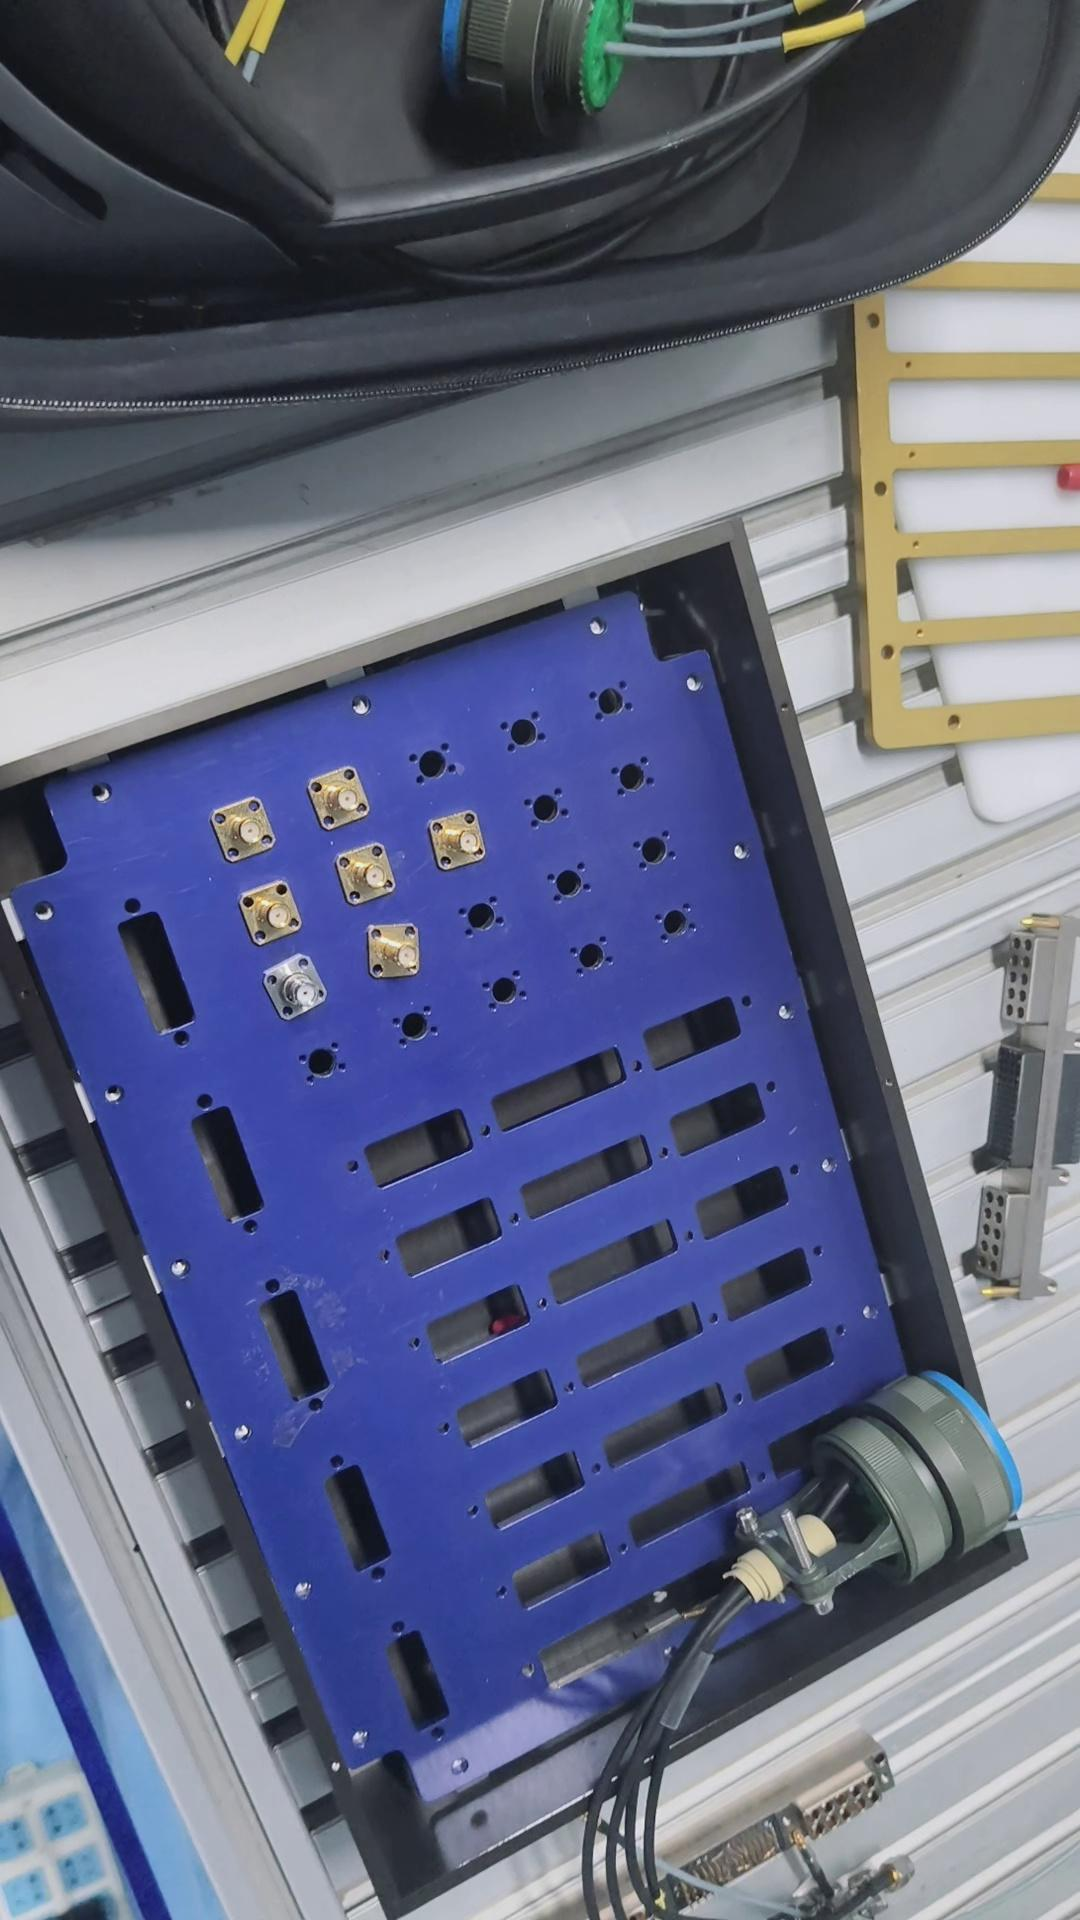SMA: (309, 762, 377, 829), (214, 790, 277, 858), (241, 876, 303, 942), (363, 924, 431, 982), (334, 847, 404, 902), (433, 812, 495, 874), (265, 956, 327, 1011)
